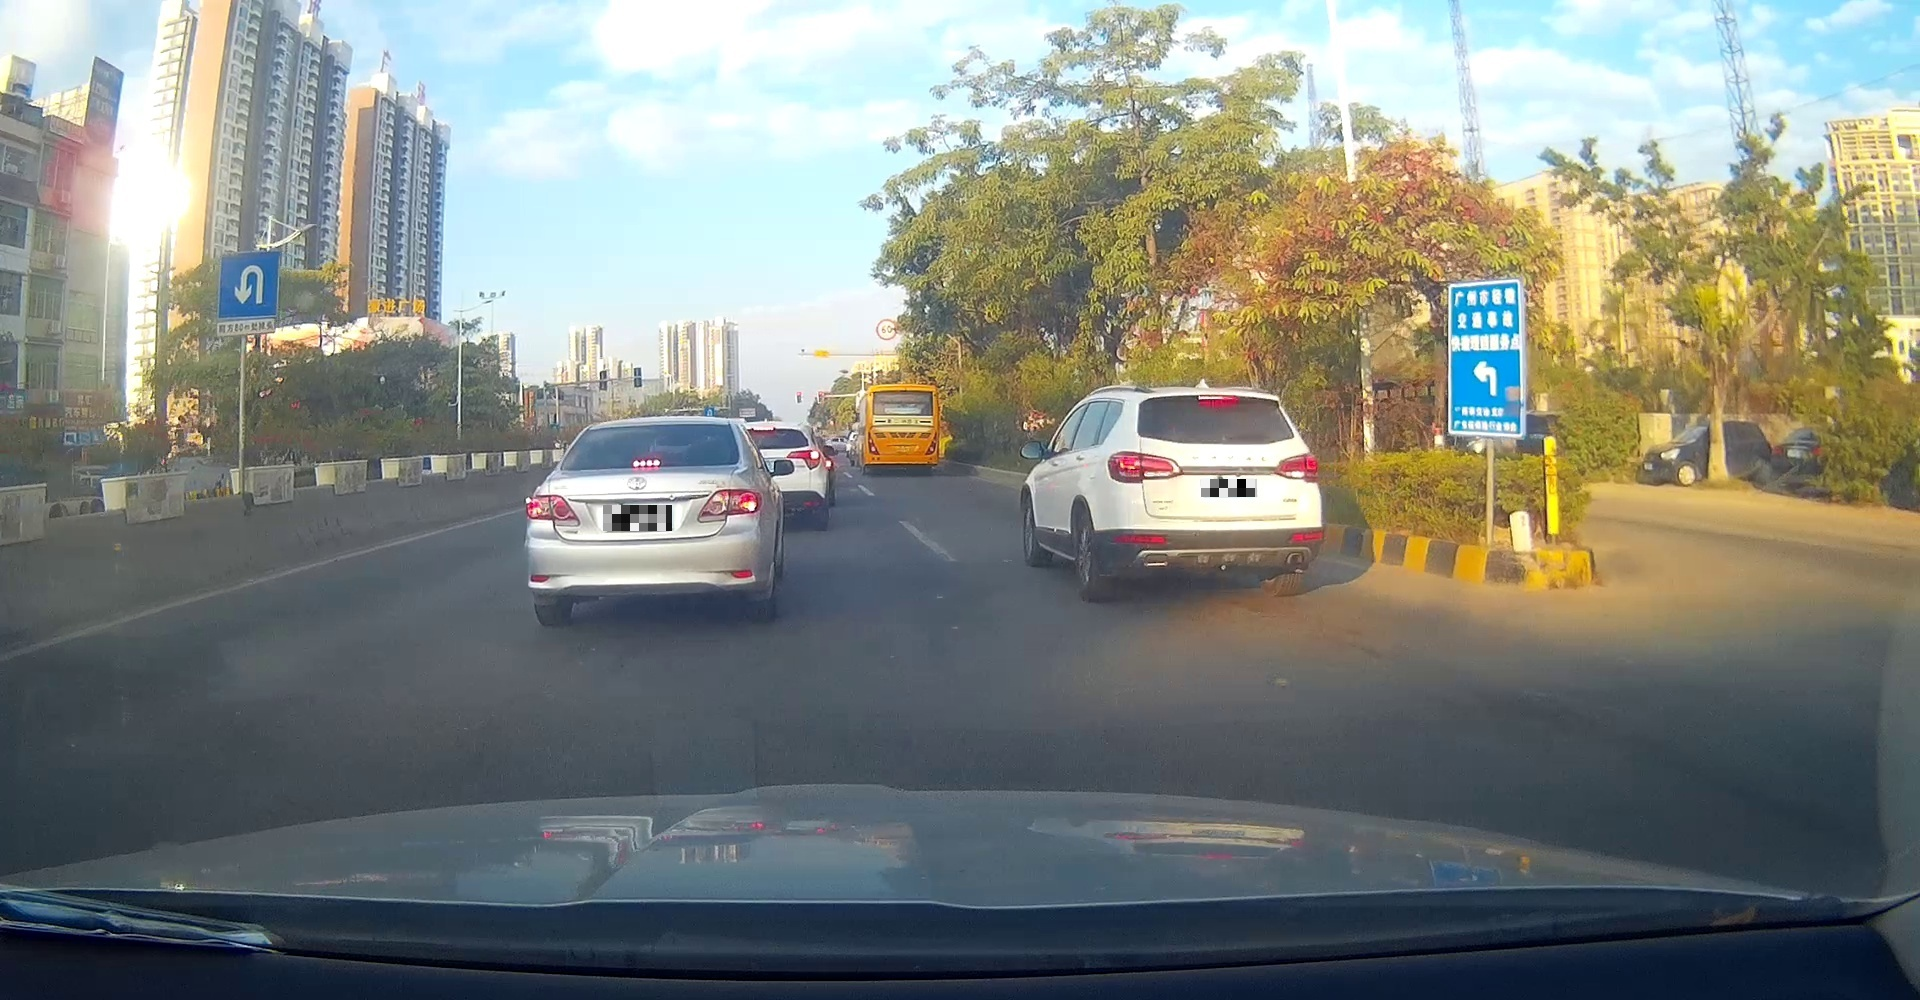L_light: (1107, 451, 1183, 484), (526, 495, 578, 520), (867, 431, 880, 456)
R_light: (698, 489, 762, 518), (1197, 396, 1239, 404), (924, 431, 937, 456)
T_light: (632, 459, 660, 467)
day-brake: (526, 416, 764, 624), (1107, 388, 1323, 602)
day-no: (865, 385, 940, 475), (1274, 452, 1319, 484), (895, 387, 916, 391)
plate_1: (603, 505, 672, 530)
plate_2: (1201, 478, 1257, 497)
